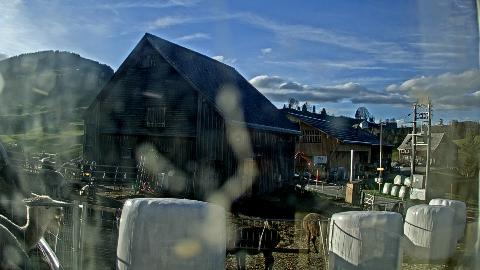car: (390, 166, 400, 174), (418, 160, 426, 166)
sheep: (0, 196, 64, 252), (226, 226, 282, 270), (0, 224, 38, 270), (302, 213, 331, 253), (37, 168, 71, 200), (0, 164, 24, 190), (292, 174, 312, 193), (62, 162, 82, 178), (80, 185, 96, 199), (364, 204, 386, 212), (392, 203, 404, 215), (31, 156, 40, 172), (42, 161, 56, 171), (40, 159, 52, 165)
